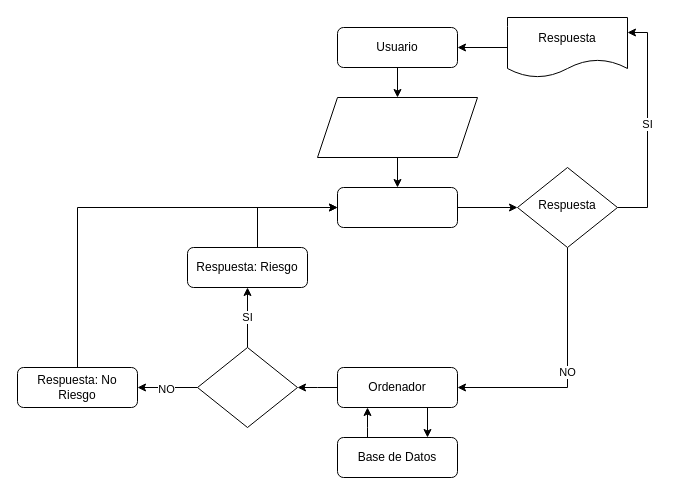
This 673x495 diagram has some shape labels left out. Each missing label, with the centre of its shape:
Arduino: point (397, 207)
Riesgo: point (247, 387)
Ritmo cardiaco y concentracion de oxigeno en la sangre: point (397, 127)
